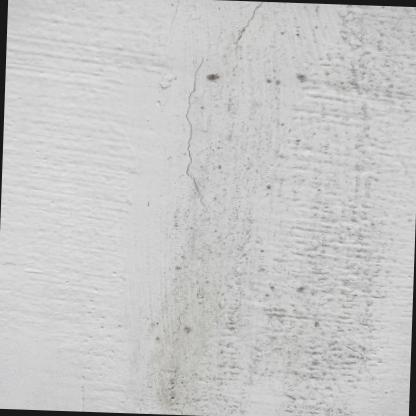crack: (183, 57, 206, 198), (234, 2, 264, 44)
